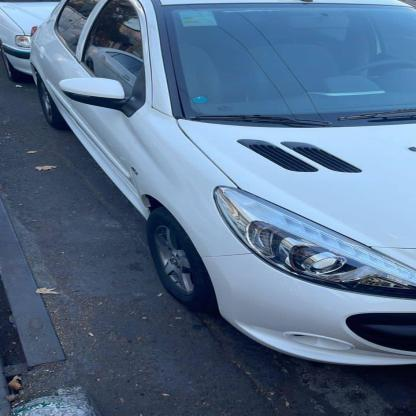Car: (2, 0, 416, 373), (0, 0, 127, 119)
